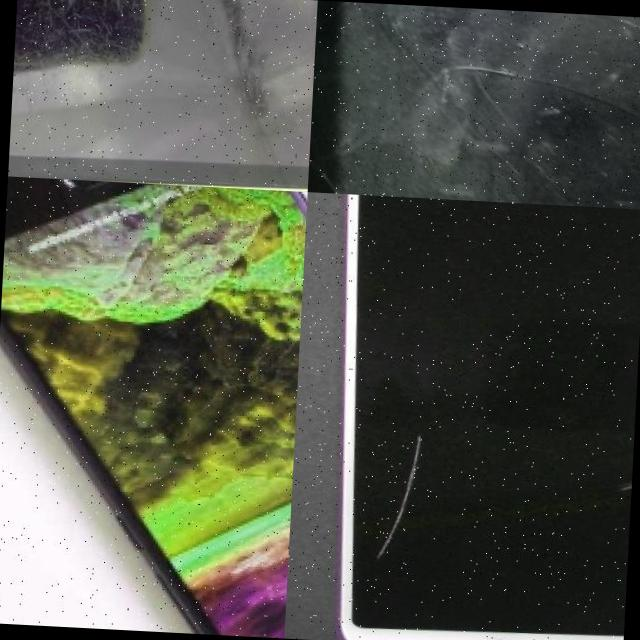scratch: (8, 0, 259, 177), (360, 428, 430, 564), (616, 471, 632, 494)
screen crack: (306, 0, 640, 209)
